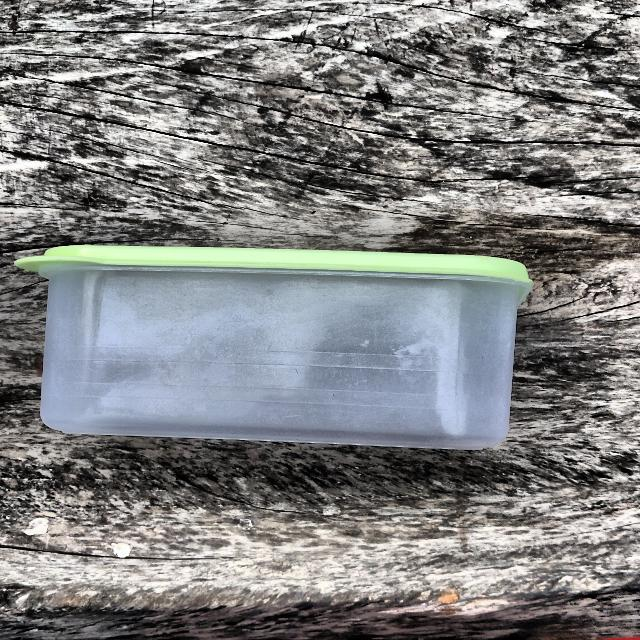plastic container: (4, 235, 549, 469)
